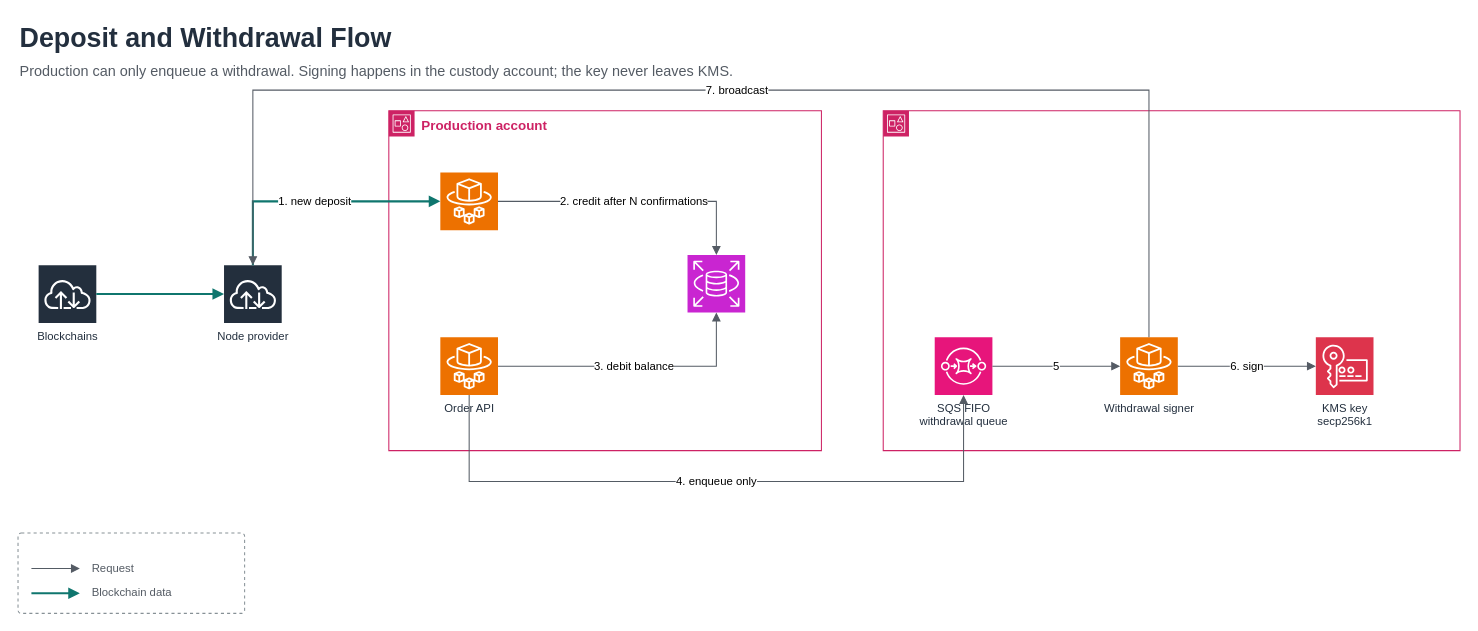
Image size: 1478x631. Some labels were removed from this diagram. The box of each missing label's shape, as (x1, y1, x2, y2) in pixels:
Custody account: (882, 110, 1460, 451)
Deposit watcher: (439, 171, 498, 230)
Legend: (17, 532, 245, 613)
PostgreSQL ledger: (686, 254, 745, 313)
